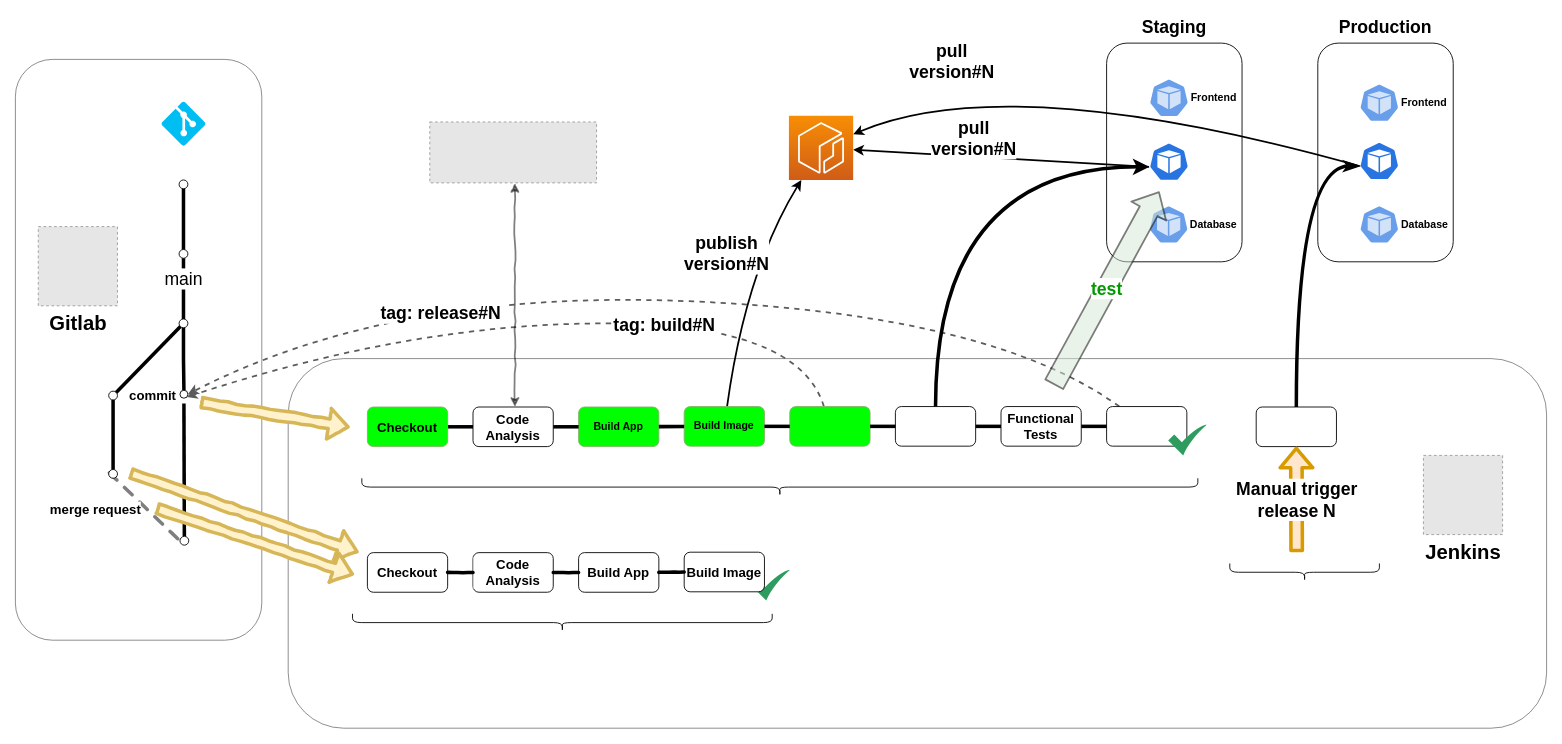
The diagram is 1562 pixels wide and 744 high, and some of its shapes have lost their labels. Grey dashed boxes stand in for pictures. The box of each missing label's shape, as (x1, y1, x2, y2) in pixels:
account-service: (161, 101, 205, 145)
Deploy to Production: (1255, 406, 1336, 447)
Deploy to Staging: (895, 406, 976, 446)
Deployment pipeline: (1229, 563, 1379, 581)
Docker Repository: (788, 115, 853, 180)
features pipeline: (352, 613, 772, 631)
Release pipeline: (361, 477, 1198, 496)
Tag Build: (789, 406, 870, 446)
Tag Release: (1106, 406, 1187, 446)
